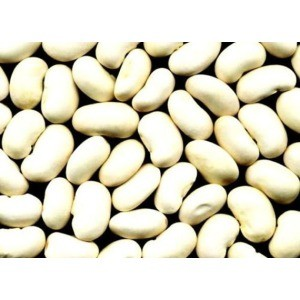beans_brain food: (55, 99, 238, 190)
